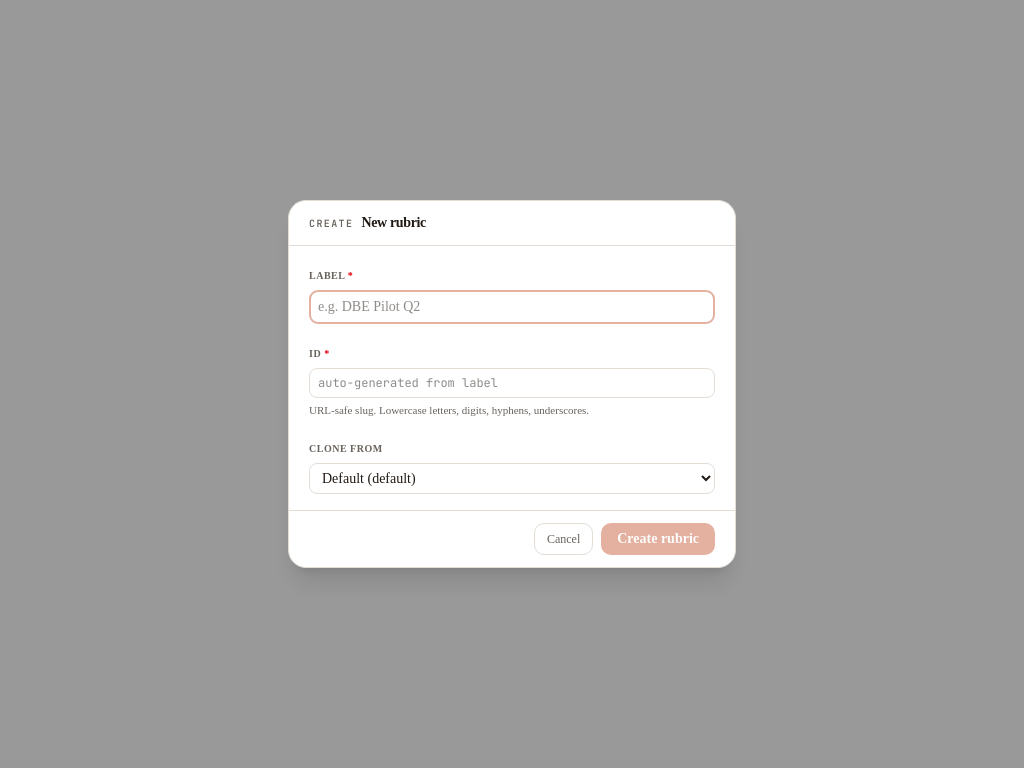
it: CreateRubricDialog › auto-fills the ID from the label as a kebab slug
The width and height of the screenshot is (1024, 768).
Type "DBE Pilot Q2" into the field labelled "Label".
click(512, 307); type("DBE Pilot Q2")  # box [309,290,715,324]
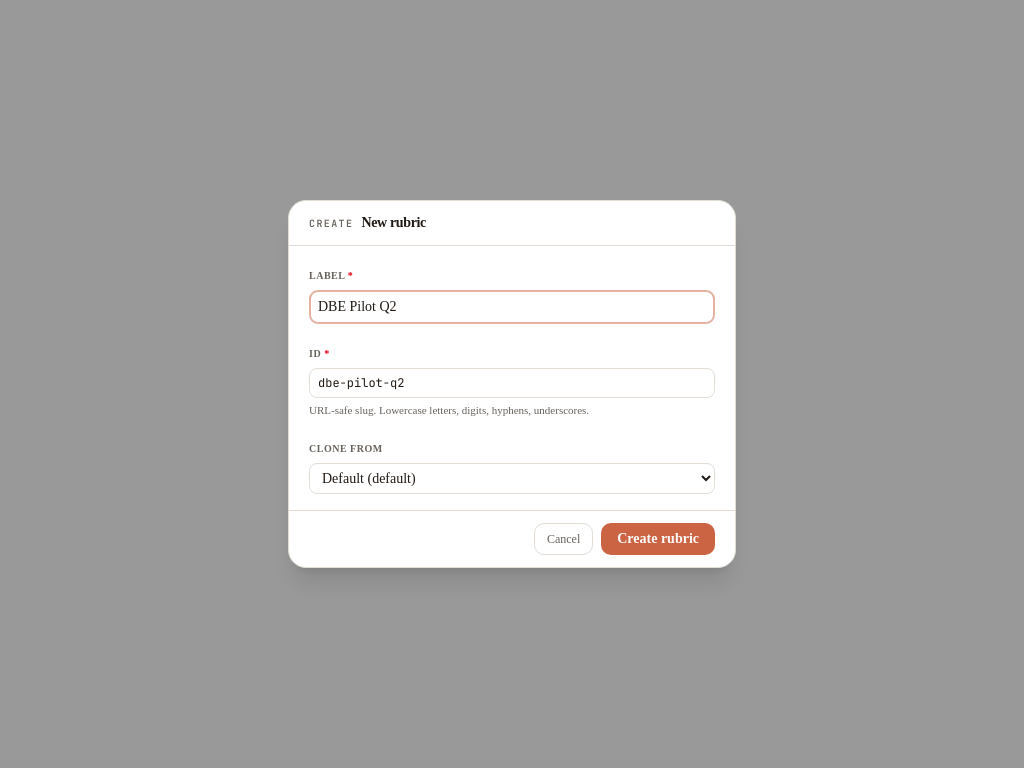
Expected: the field labelled "ID" holds "dbe-pilot-q2", [309,368,715,398]
